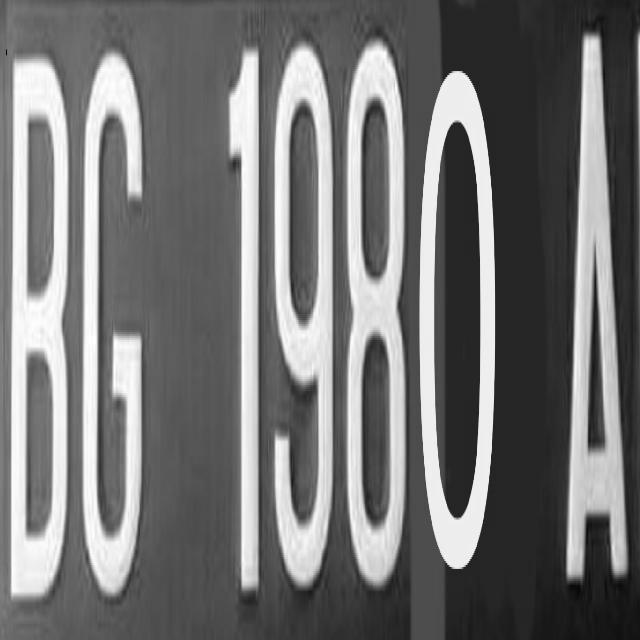0: (420, 60, 510, 586)
1: (216, 36, 270, 614)
8: (343, 28, 419, 608)
9: (273, 36, 335, 600)
A: (545, 20, 640, 593)
B: (6, 46, 76, 622)
G: (74, 44, 178, 616)
